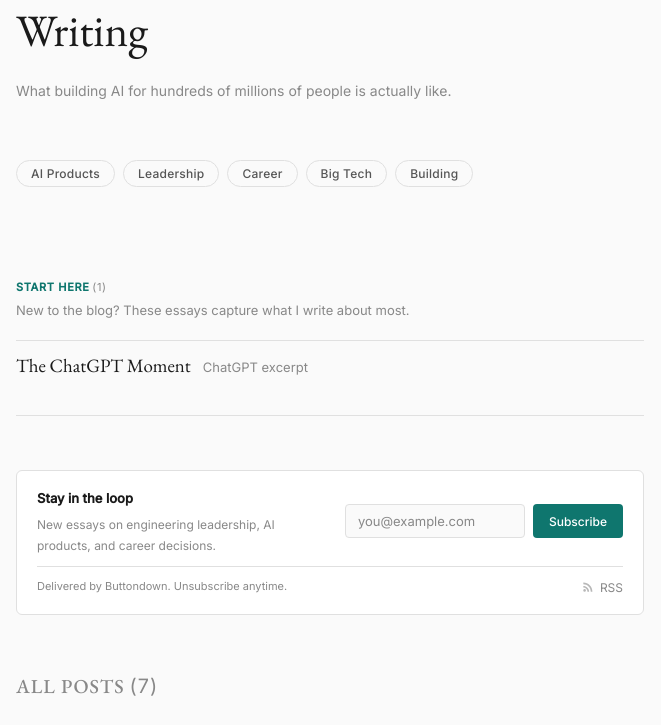
it: Home page › NewsletterCTA compact hides when a filter is active
Expected: the text "Stay in the loop" is shown, x1=37 y1=490 x2=133 y2=506
What coordinates should you click on to do the following:
click the button "Career"
I would click on:
 (262, 174)
Its box is x1=227 y1=160 x2=298 y2=187.
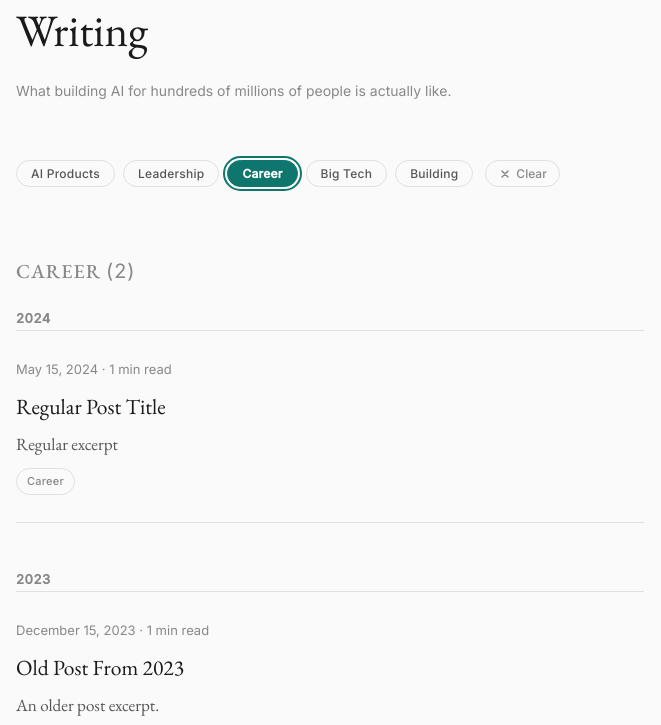
Result: the text "Stay in the loop" is gone
